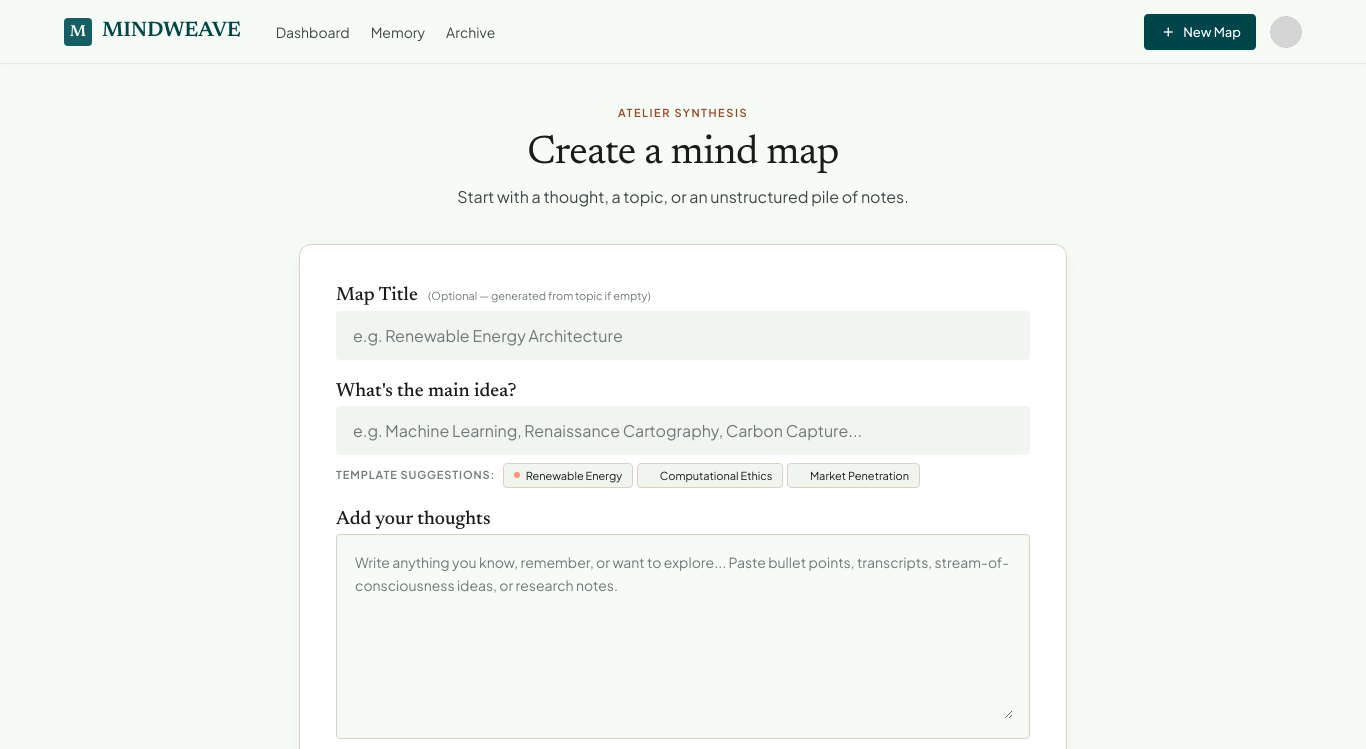
S3-FE4: Upload UI for New Types (DOCX, PPTX, Seed URL) › Per-File Validation & Individual Error Messaging › blocks submission while an invalid file is present
Earlier steps of the test are not shown.
Replace the text in the field labelled "What's the main idea?" with "Quantum Mechanics" at (683, 430), box [336, 406, 1030, 455]
(page scrolled)
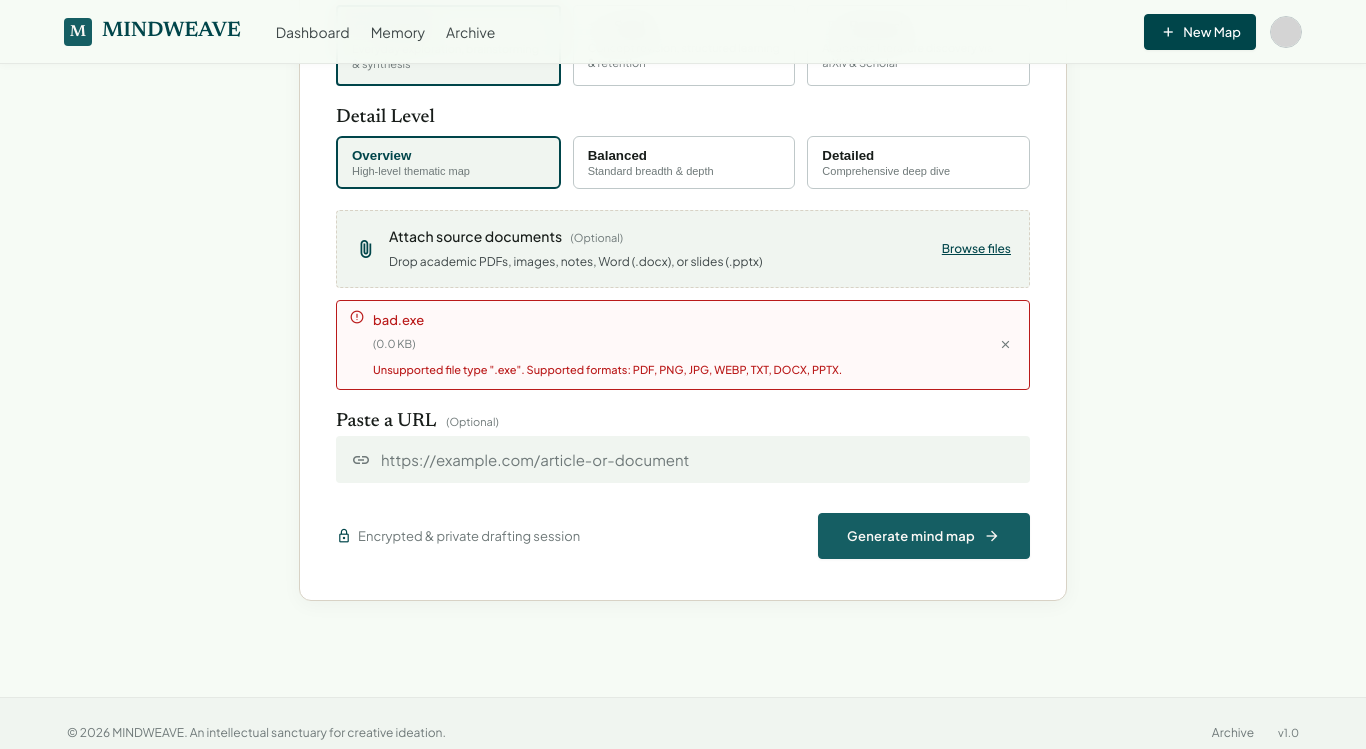
Click the button "Generate mind map".
click(924, 536)  # box [818, 513, 1030, 559]
(page scrolled)
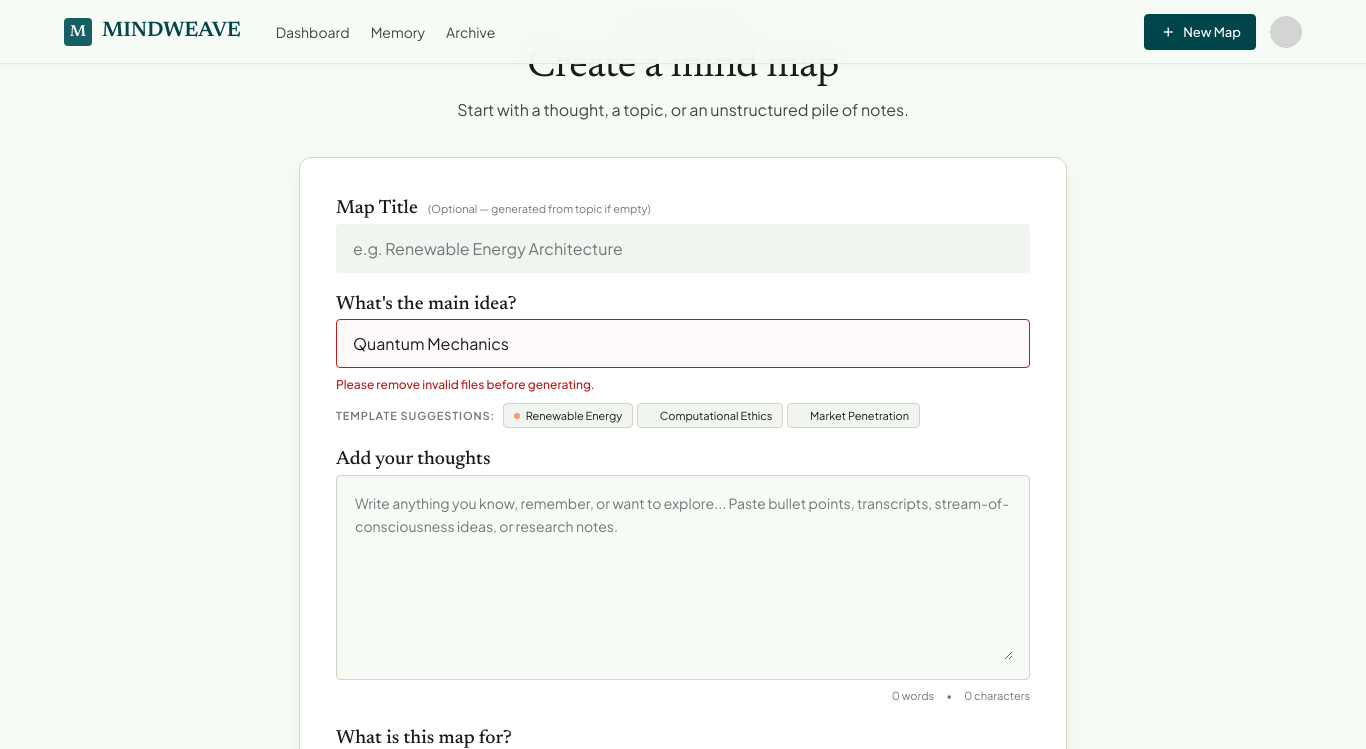
Expected: the text "Please remove invalid files before generating." is shown, [336, 376, 595, 392]
